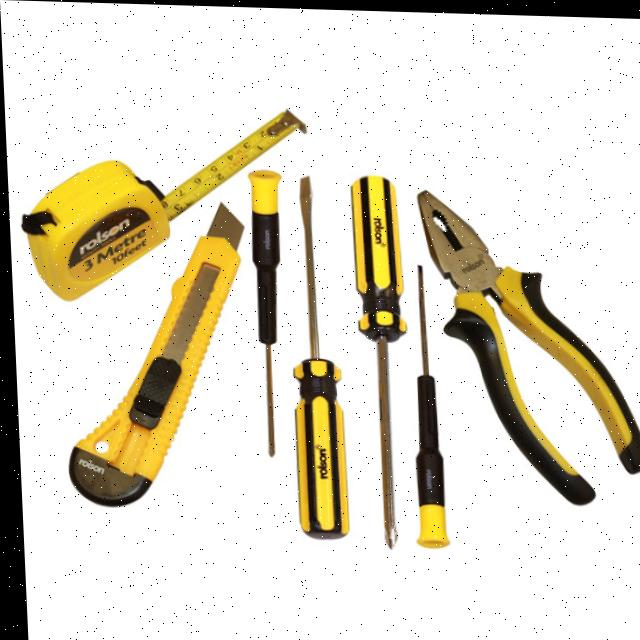Screwdriver: (350, 173, 404, 545), (290, 176, 344, 537), (247, 169, 280, 454)
